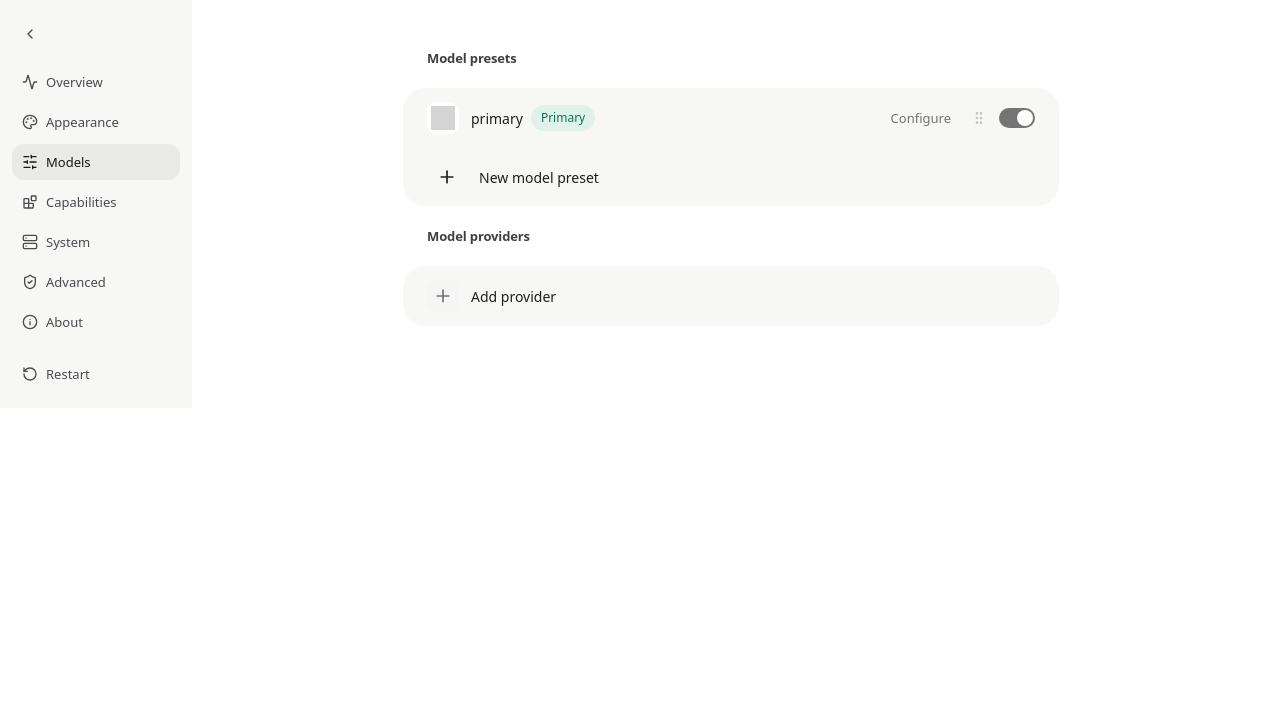
Test: Settings models › maps a server-side name conflict back to the preset name field
Click the button "primary Primary Configure" at point(443, 118), box x1=427 y1=102 x2=959 y2=134
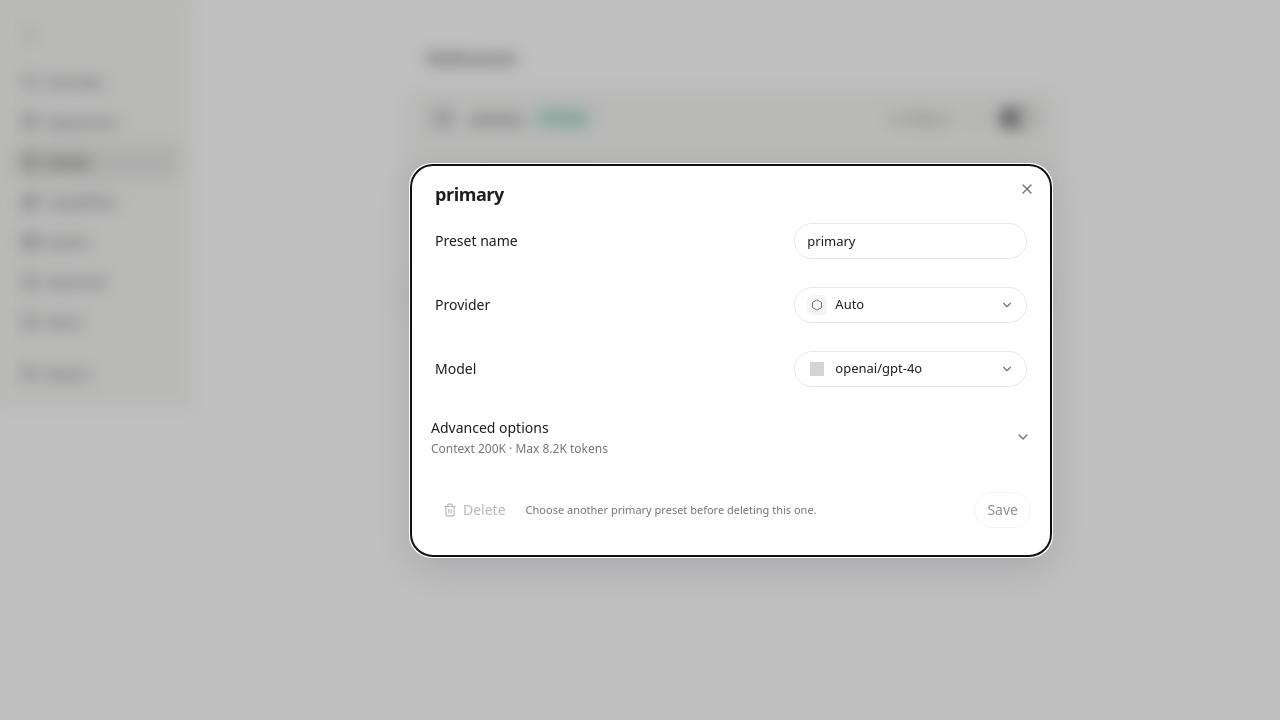
Replace the text in the field named "Preset name" with "Codex" at point(911, 240), box x1=794 y1=222 x2=1027 y2=258
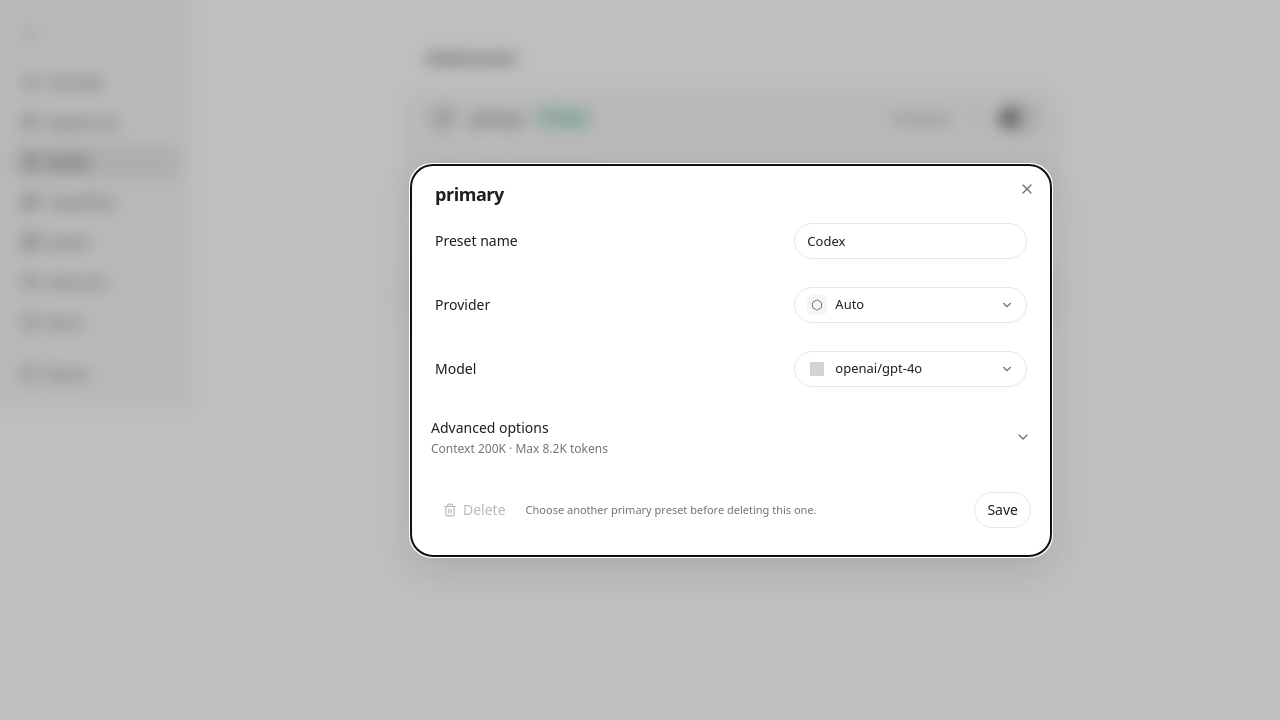
Click the button "Save" at point(1003, 510), box x1=974 y1=492 x2=1031 y2=528
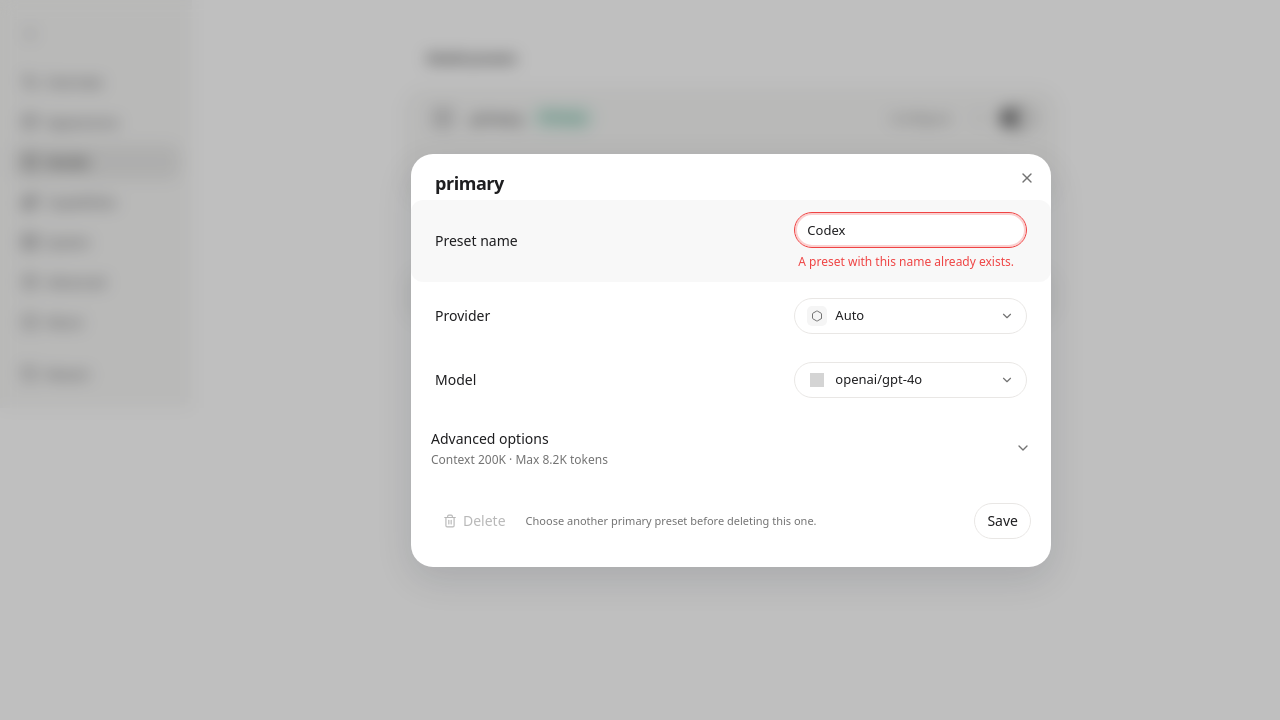
Now the message reads "A preset with this name already exists.", box x1=798 y1=252 x2=1014 y2=270
